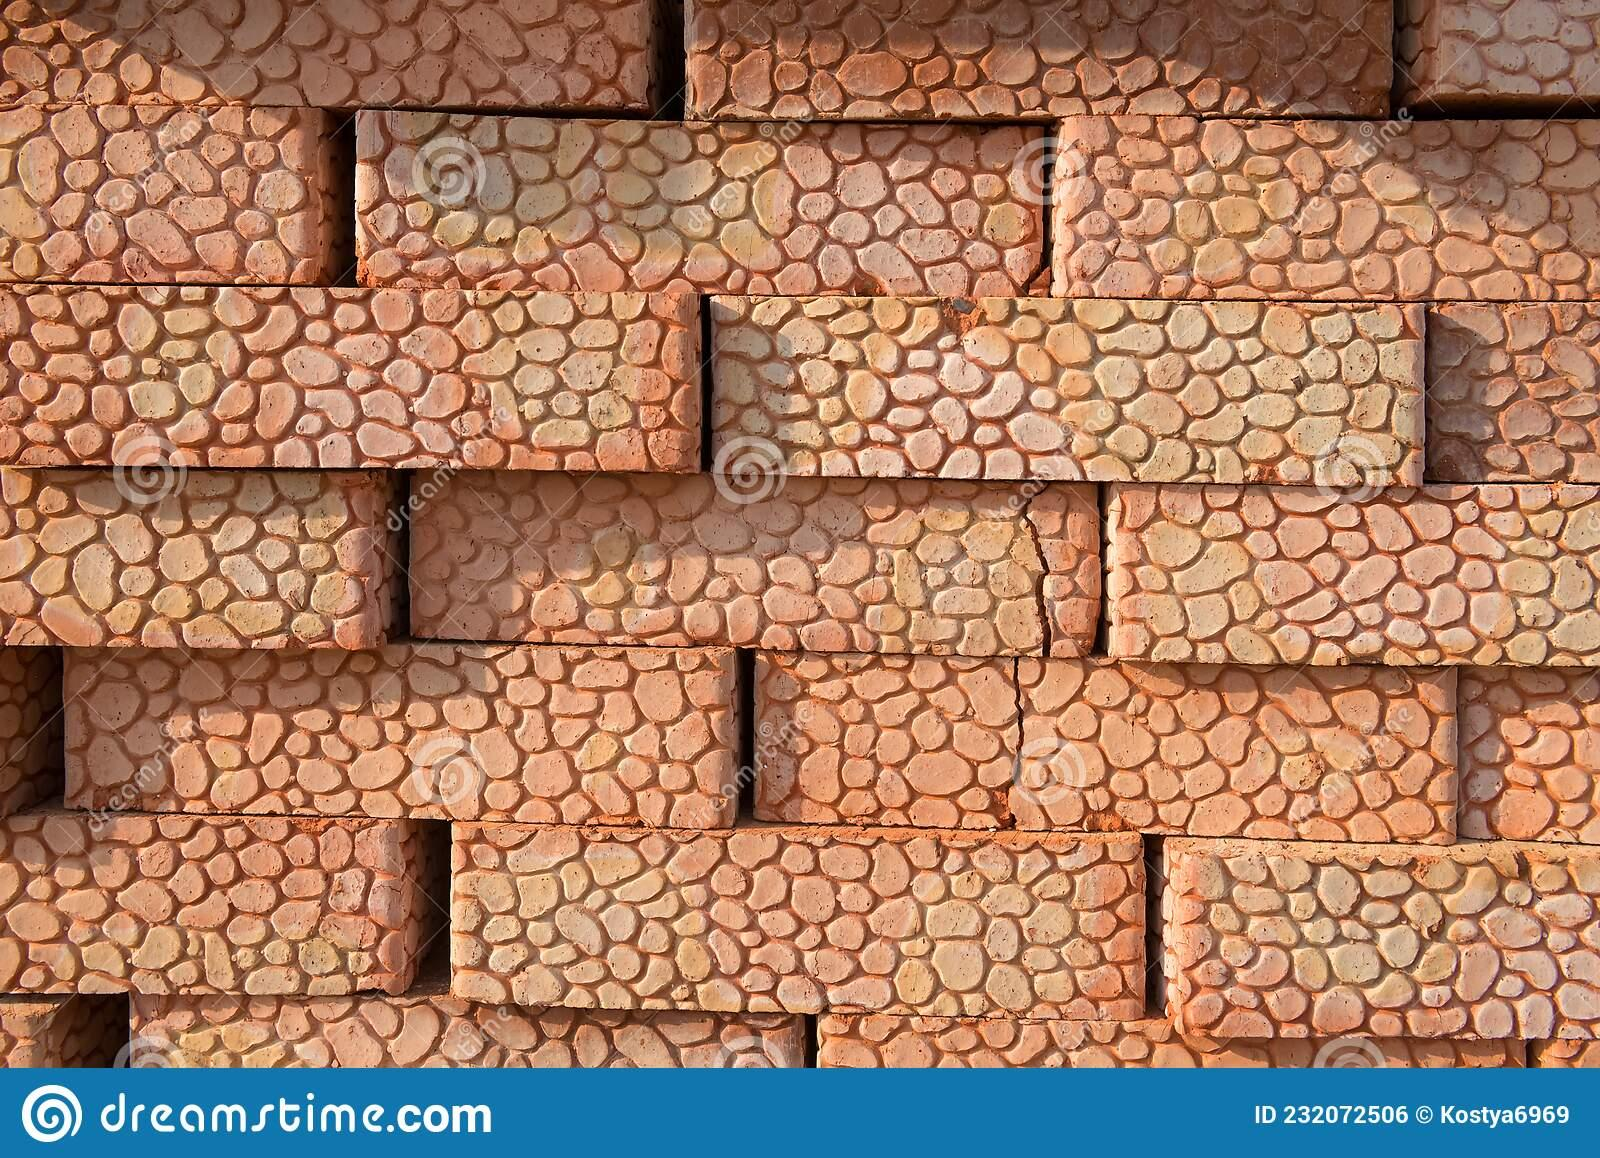brick: (712, 297, 1421, 486), (755, 652, 1458, 841), (450, 825, 1144, 1015), (354, 111, 1047, 297), (1, 283, 698, 466), (68, 639, 738, 824), (410, 472, 1098, 649), (1047, 116, 1600, 304), (1164, 839, 1600, 1041), (1106, 485, 1600, 662), (686, 2, 1402, 116), (1, 813, 414, 988), (0, 468, 395, 642), (2, 0, 648, 101), (2, 109, 338, 278)
